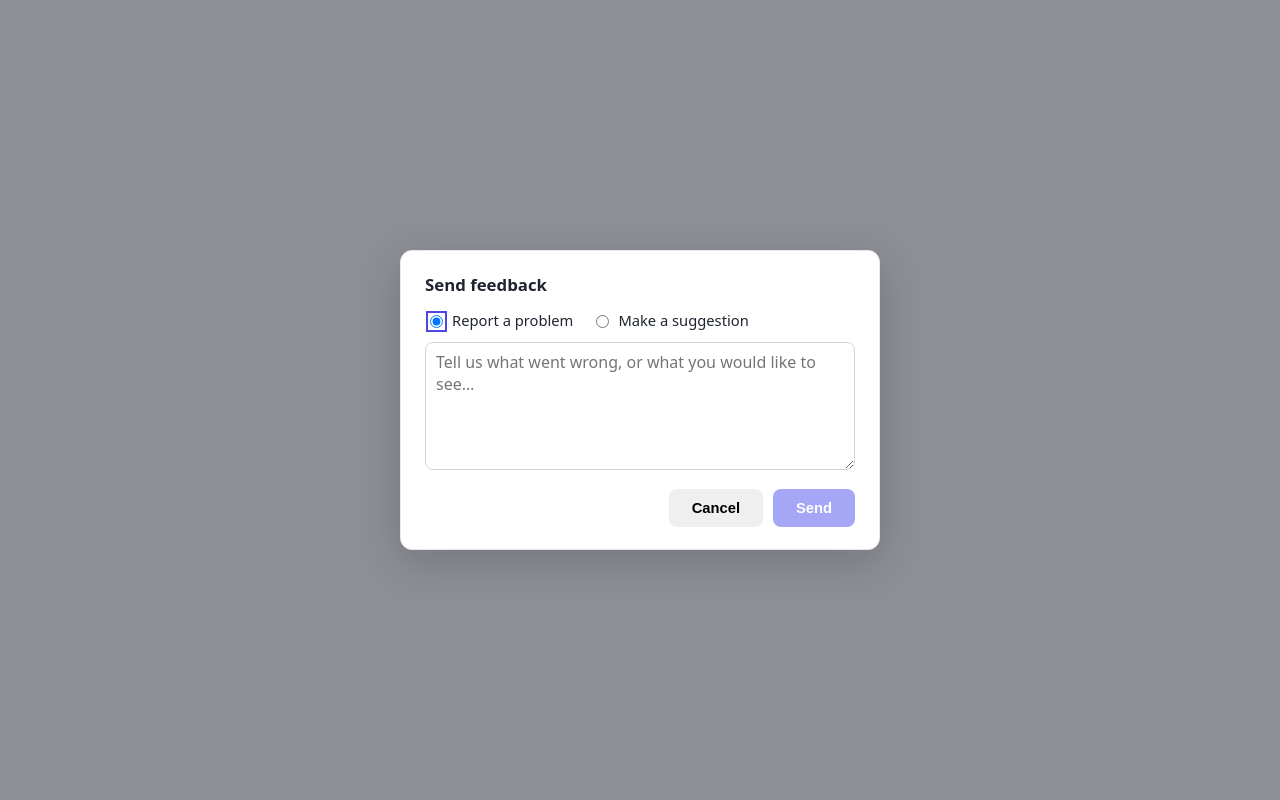
Test: FeedbackModal › a 429 shows the daily-limit message
Type "x" into the text box named "feedback" at (640, 406), box [425,342,855,470]
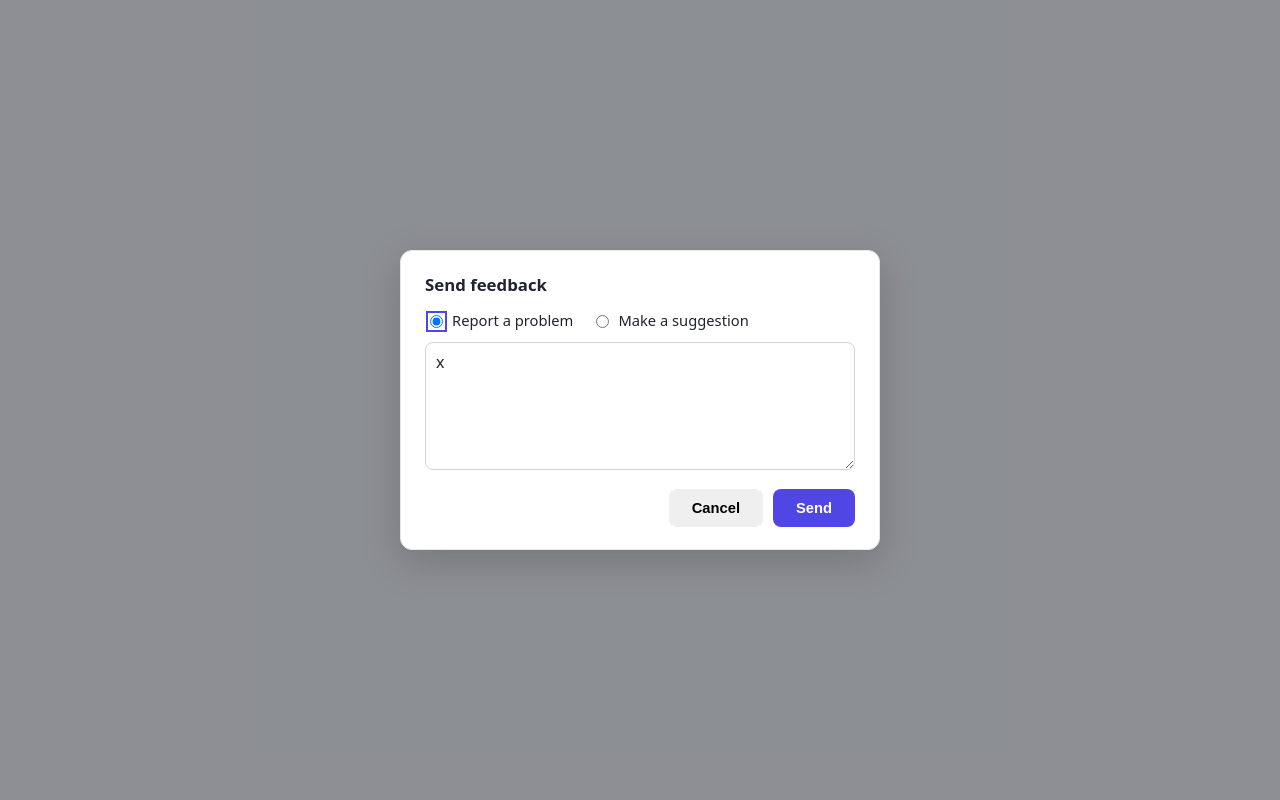
Click the button "Send" at (814, 508), box [773,489,855,527]
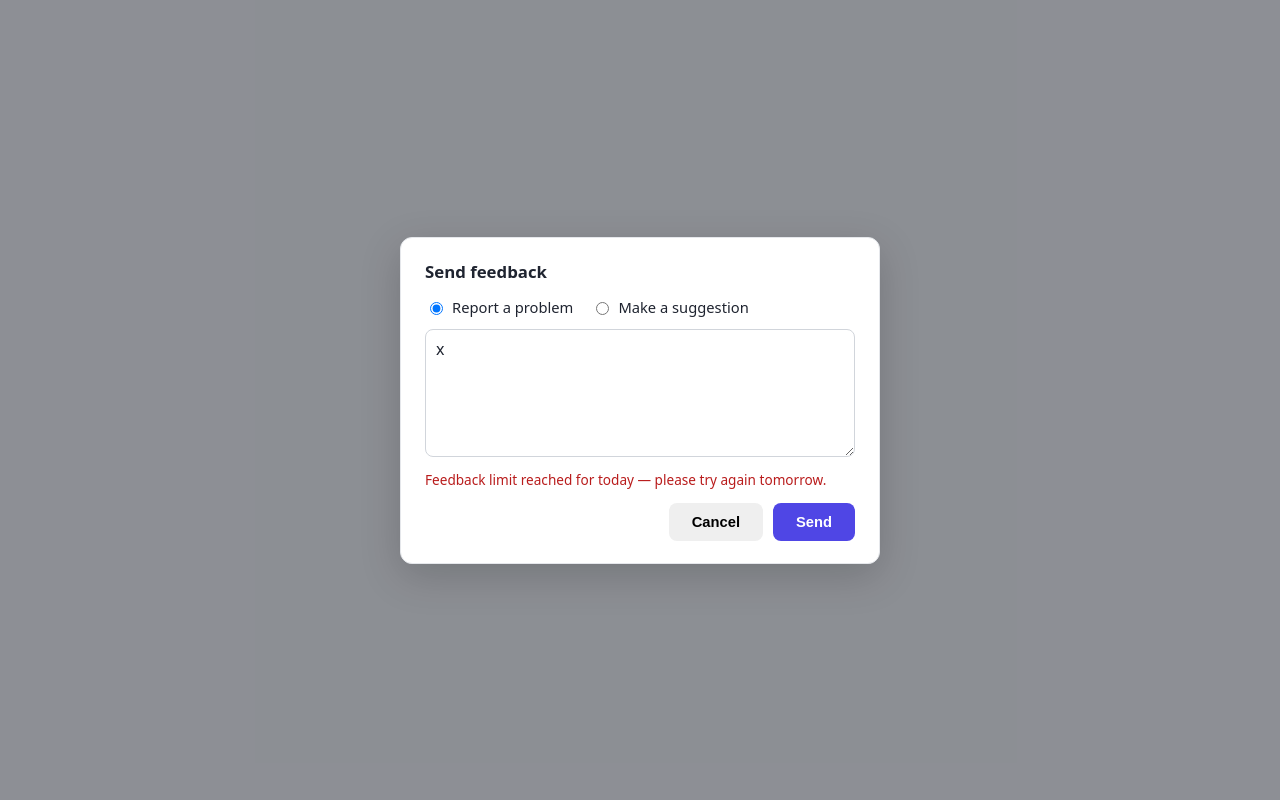
Now the text "limit reached" is shown, box [425,470,826,488]
